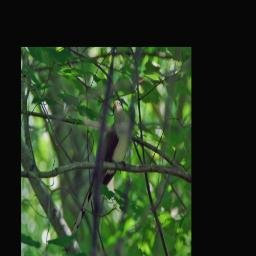Cuckoo: (67, 99, 133, 237)
